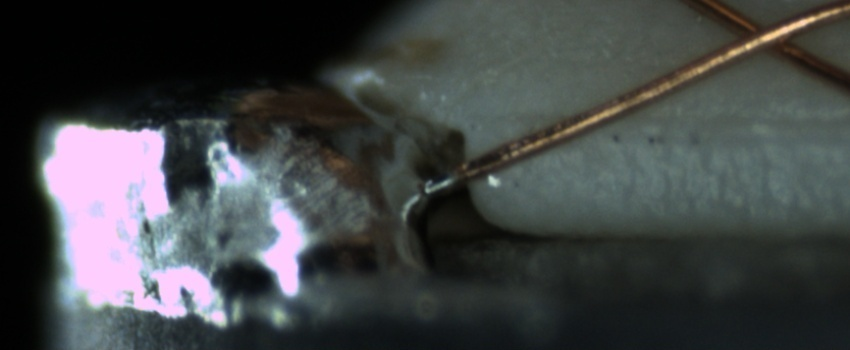CL: (707, 3, 818, 66)
DL: (531, 88, 850, 157)
TS: (417, 165, 457, 200)
